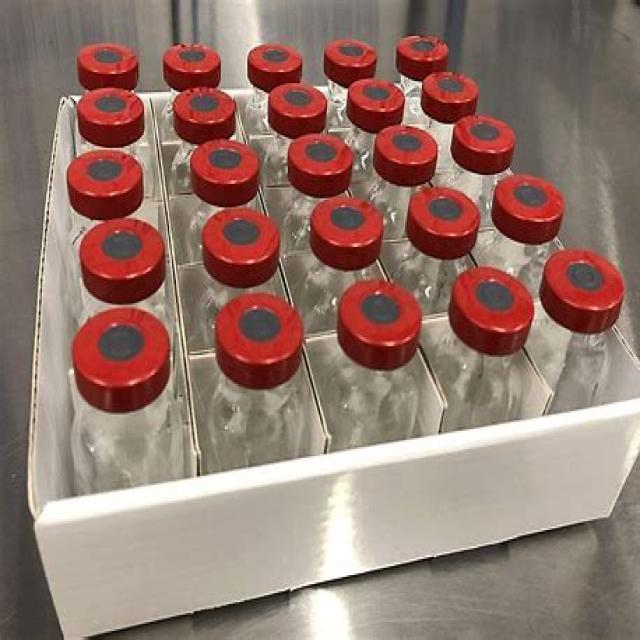vial: (217, 284, 315, 390), (72, 311, 169, 387), (338, 285, 427, 361), (445, 272, 532, 339), (552, 251, 622, 331), (81, 223, 170, 282), (202, 205, 283, 269), (410, 185, 494, 246), (68, 149, 158, 203), (304, 195, 388, 251), (455, 115, 532, 172), (496, 177, 572, 231), (191, 141, 264, 190), (288, 134, 356, 184), (373, 124, 446, 169), (263, 92, 346, 129), (81, 44, 142, 90), (414, 67, 485, 105), (161, 42, 235, 78), (174, 89, 243, 126), (249, 42, 315, 78), (348, 82, 410, 118), (79, 92, 145, 125), (399, 26, 457, 59), (325, 44, 379, 76)
